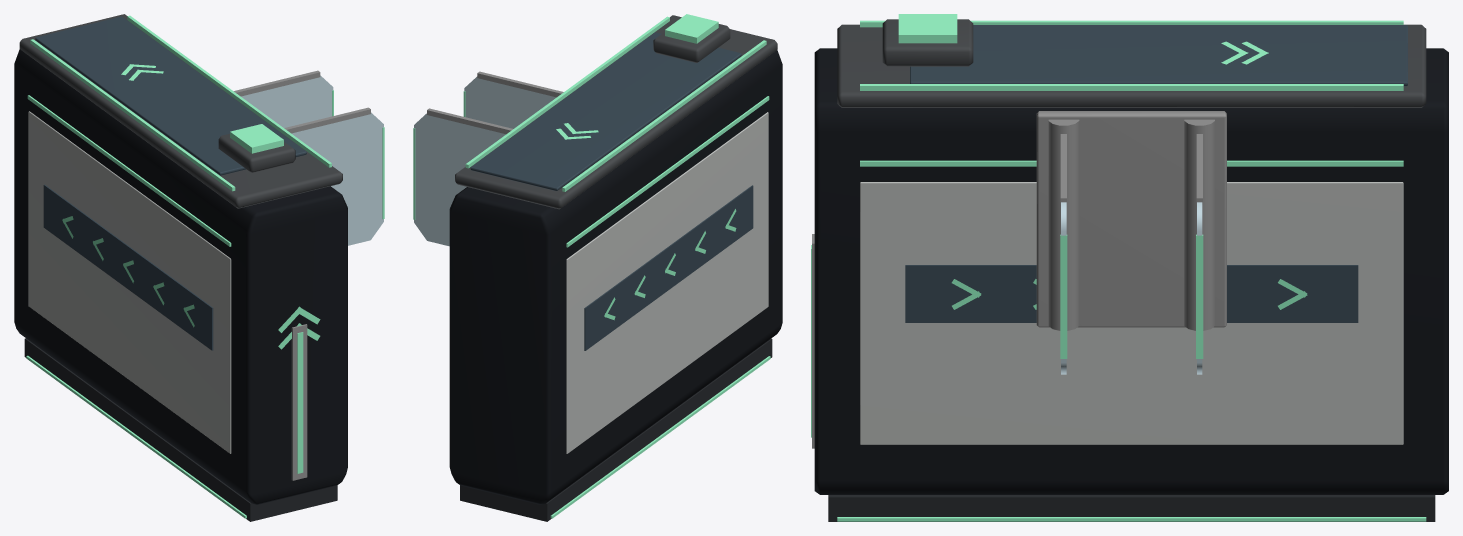
The model's file is Metro_TicketGate.fbx.
The picture shows the model from 3 angles, left to right: view 1: azimuth 30°, elevation 25°; view 2: azimuth 150°, elevation 25°; view 3: azimuth 270°, elevation 25°; orthographic projection. The views are drawn at different scales.
Visible parts, largest first — view 1: Metro_TicketGate_LOD0; view 2: Metro_TicketGate_LOD0; view 3: Metro_TicketGate_LOD0.
Part boxes in pixels (box(x1,y1,x2,y2)): Metro_TicketGate_LOD0: box(14, 14, 384, 521); Metro_TicketGate_LOD0: box(413, 14, 782, 521); Metro_TicketGate_LOD0: box(811, 14, 1448, 521).
Size of what is drawn, in the model's own units: 0.791 by 1.14 by 1.41.
